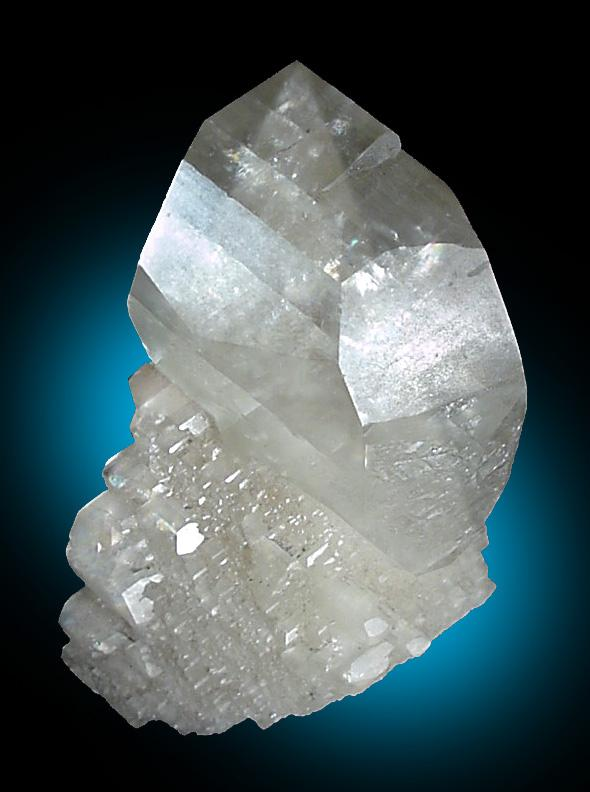calcite: (60, 63, 527, 736)
